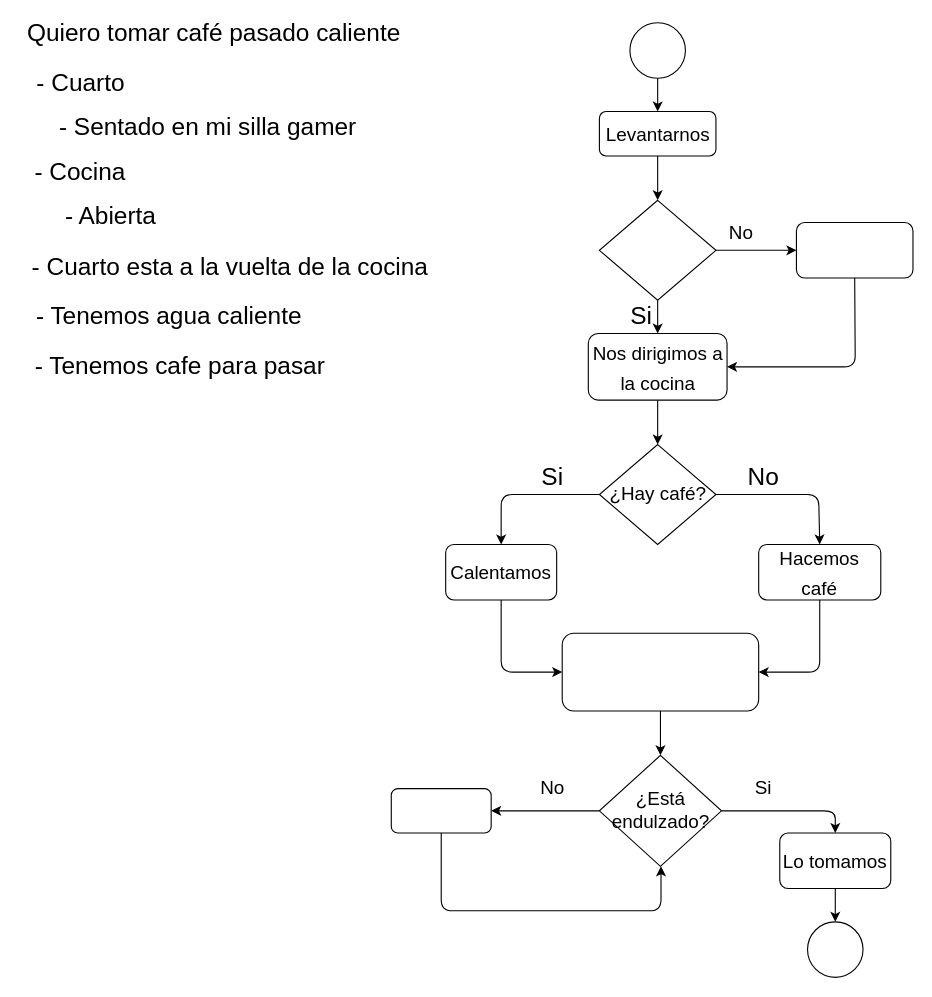
Image size: 932x997. Some labels were removed from this diagram. Here are the shapes that lost their labels. From the top down, the box of each, then its label:
(598, 199, 716, 300): ¿Cuarto Abierto?
(795, 221, 913, 278): Abrir la puerta
(561, 632, 759, 711): Servir en una taza y añadir azucar
(390, 788, 491, 833): Añadir azucar
